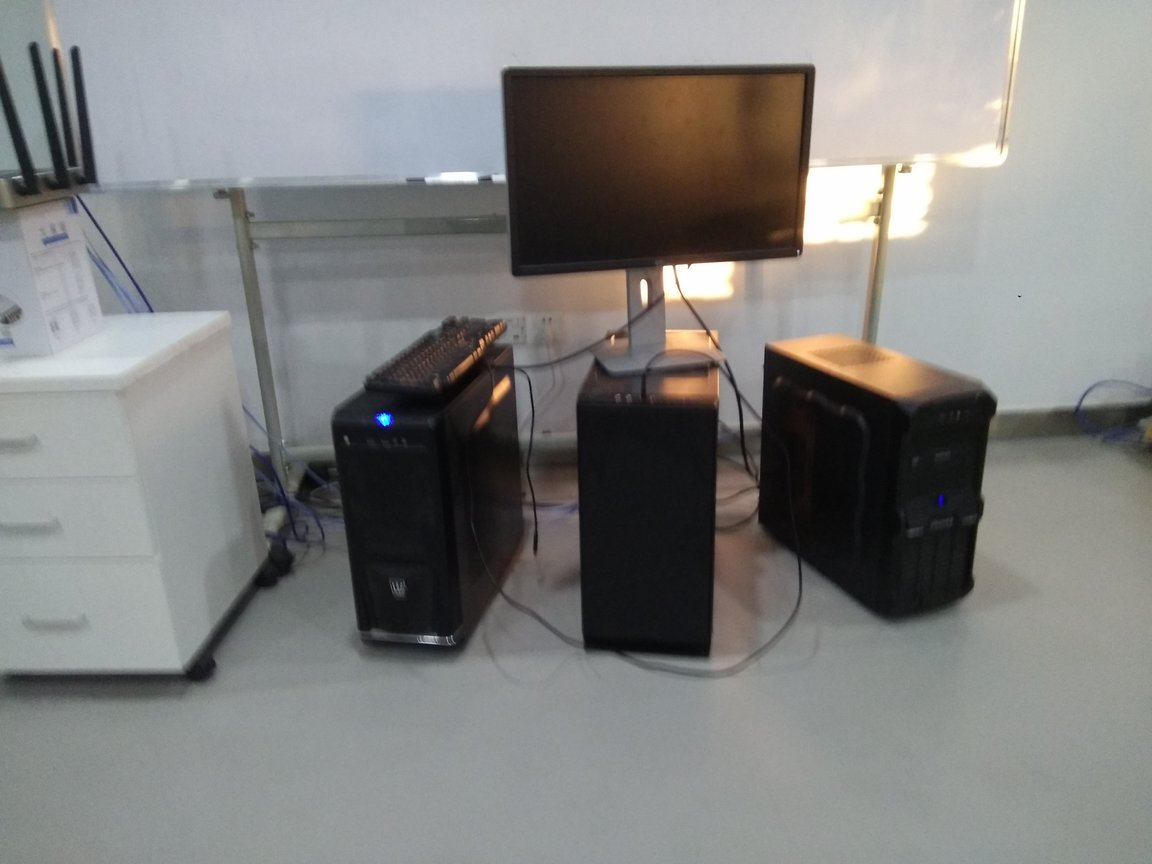computer: (315, 334, 533, 662), (760, 327, 989, 636), (576, 317, 727, 666)
drawer chest: (1, 310, 275, 679)
monitor: (496, 58, 815, 380)
